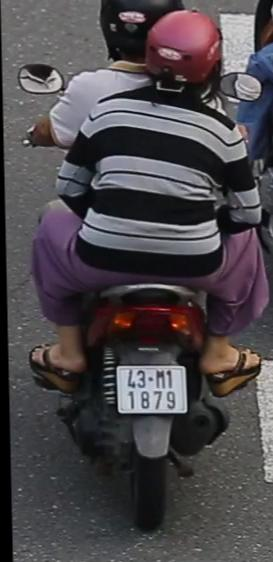LP: (112, 357, 189, 416)
helmet: (141, 7, 226, 100)
